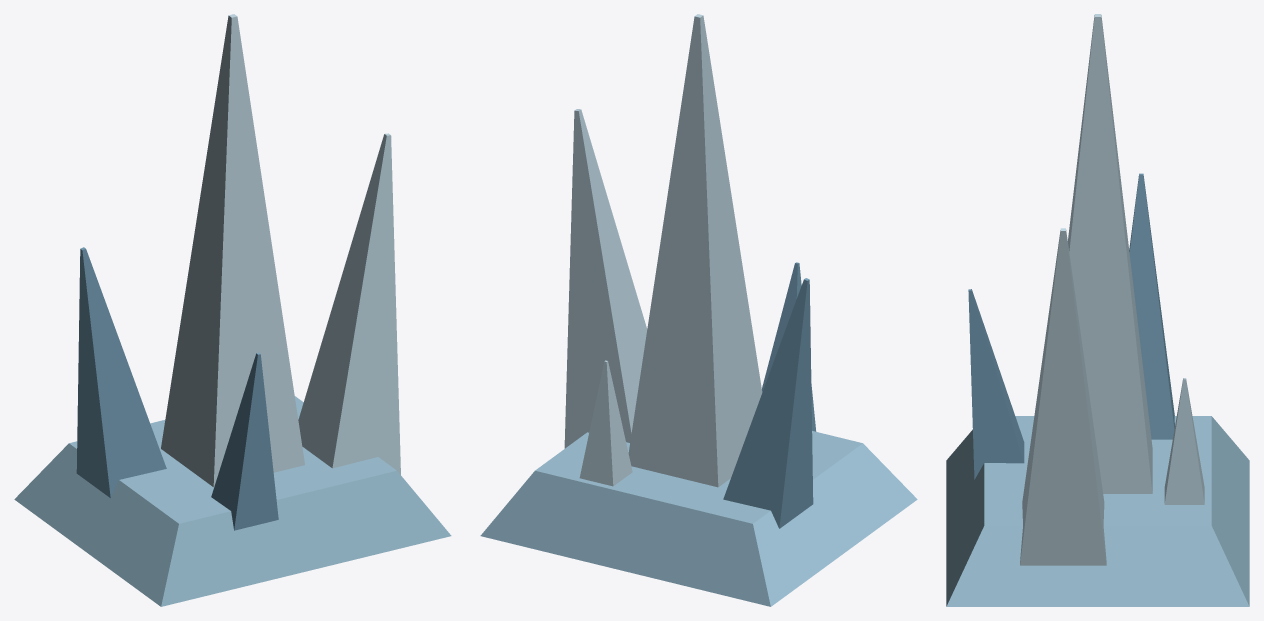
The model's file is icicle_cluster.glb.
3 renders of one model, left to right at view 1: azimuth 30°, elevation 25°; view 2: azimuth 150°, elevation 25°; view 3: azimuth 270°, elevation 25°, orthographic. The views are drawn at different scales.
Parts seen in each view (by area): view 1: icicle_cluster; view 2: icicle_cluster; view 3: icicle_cluster.
Boxes of the visible parts, bbox=[...] form: icicle_cluster: bbox=[14, 14, 451, 606]; icicle_cluster: bbox=[480, 14, 917, 606]; icicle_cluster: bbox=[946, 14, 1249, 606].
Size of the model in its own units: 0.8 by 1.32 by 0.7.
1 material, 1 textured.
